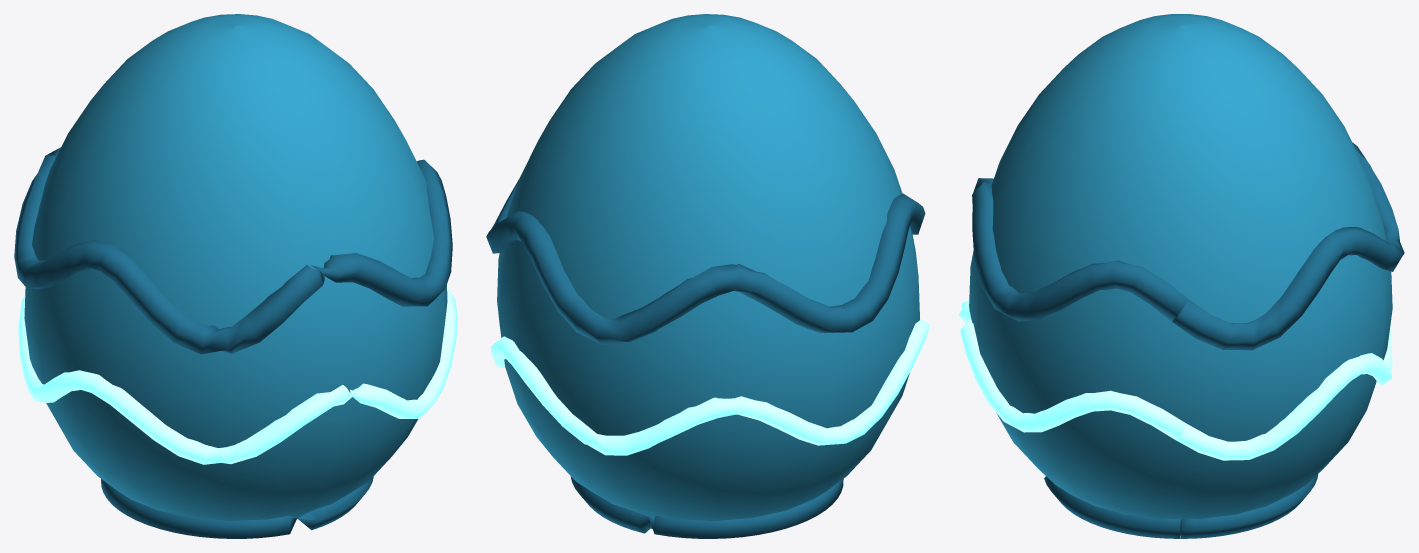
Rendered from EggWater.glb.
3 renders of one model, left to right at view 1: azimuth 30°, elevation 25°; view 2: azimuth 150°, elevation 25°; view 3: azimuth 270°, elevation 25°, orthographic.
Parts seen in each view (by area): view 1: Body, Glow; view 2: Body, Glow; view 3: Body, Glow.
Boxes of the visible parts, x1,y1,x2,y2 form: Body: (14,14,452,538); Glow: (18,288,457,464); Body: (486,14,925,538); Glow: (491,318,929,455); Body: (969,14,1404,538); Glow: (958,300,1392,460).
Bounding box in the file's own units: 1.98 × 2.4 × 2.02.
2 materials, 1 textured.
